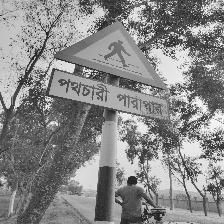Pedestrian-crossing: (48, 20, 171, 121)
